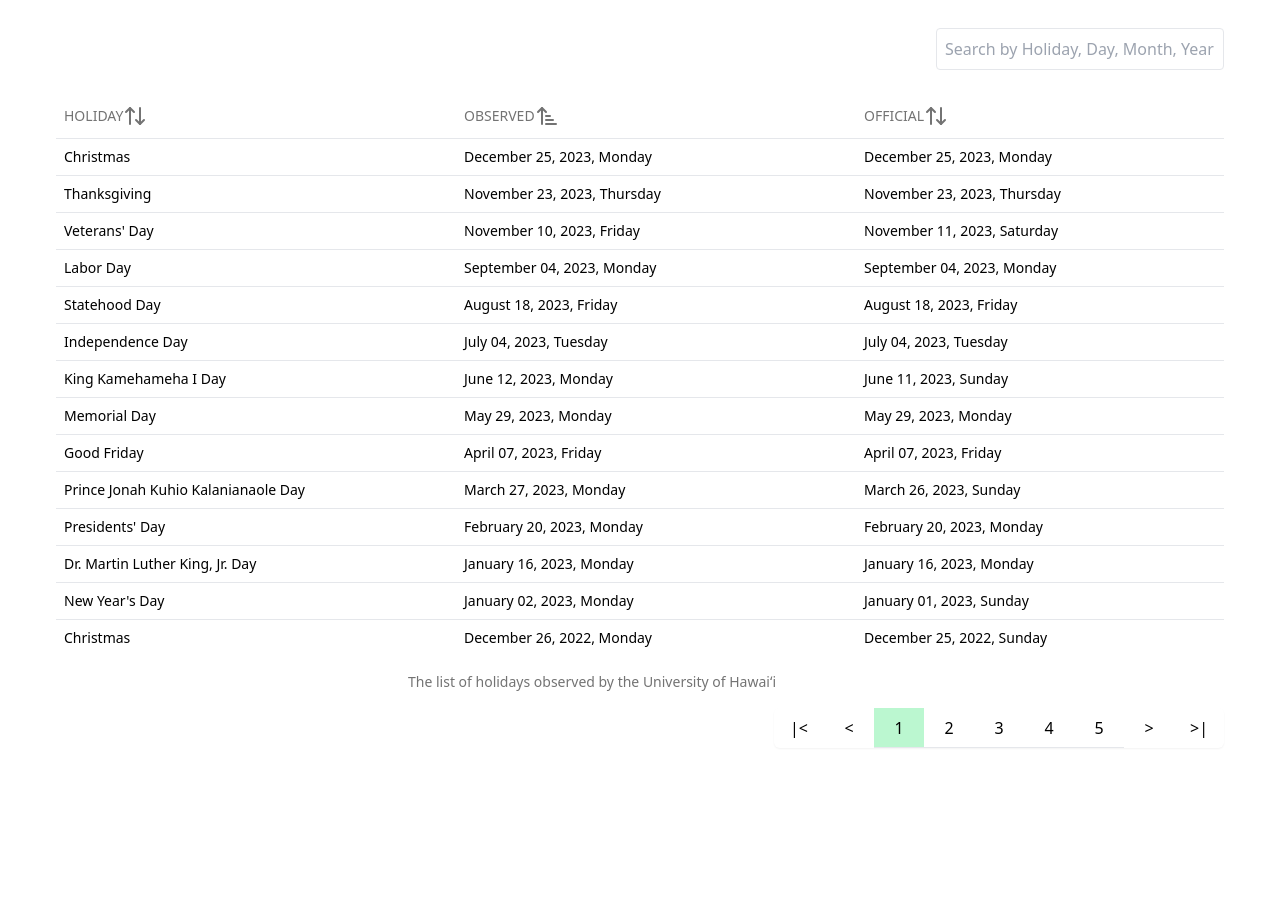
HolidaysTable › correctly filters the table based on search input
Note: Simulate typing into the search input
Type "Christmas" into the field with placeholder "Search by Holiday, Day, Month, Year" at (1080, 49), box [936,28,1224,70]
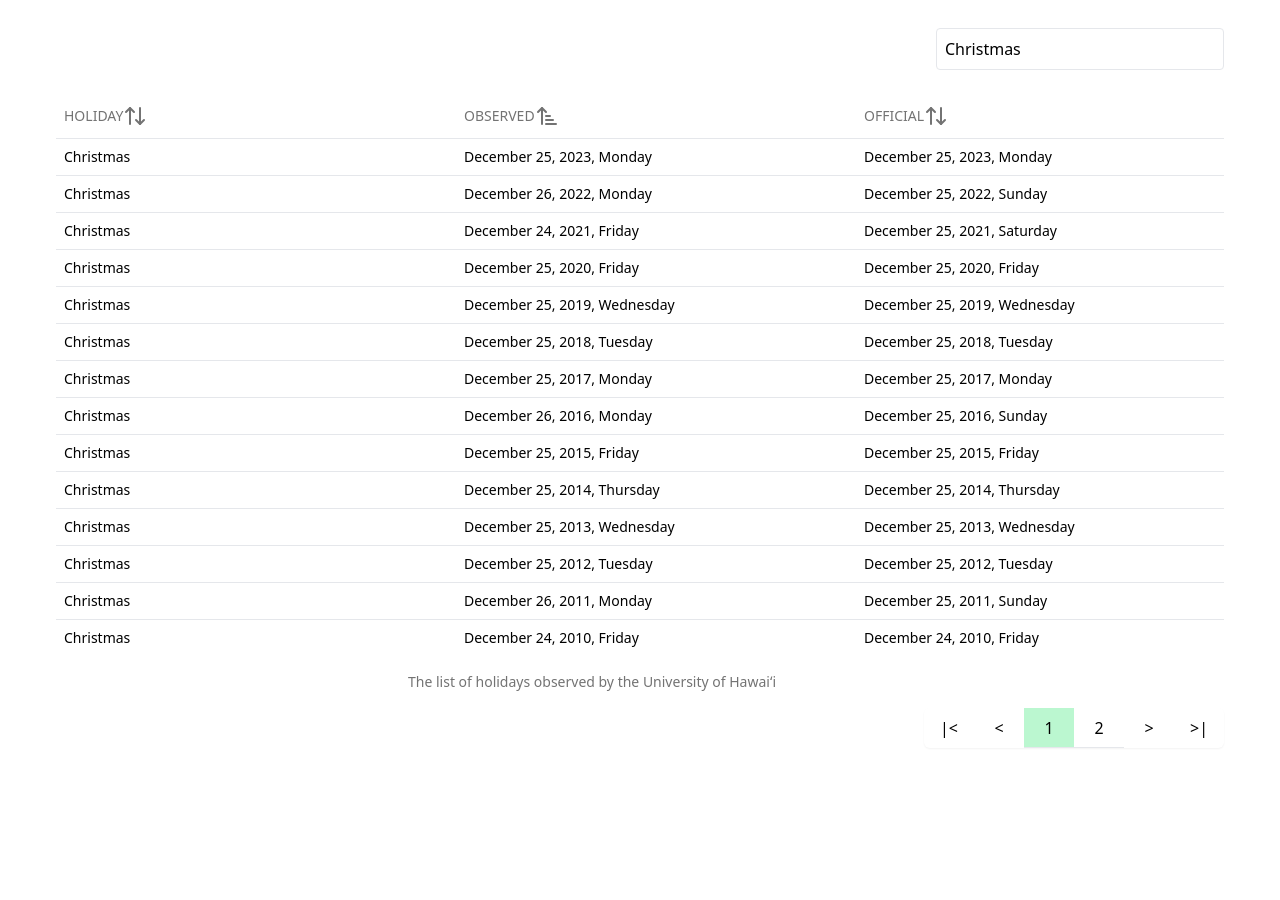
expect the 1st text "Christmas" is shown: met, box [56,138,456,176]
expect the text "Thanksgiving" is gone: met
